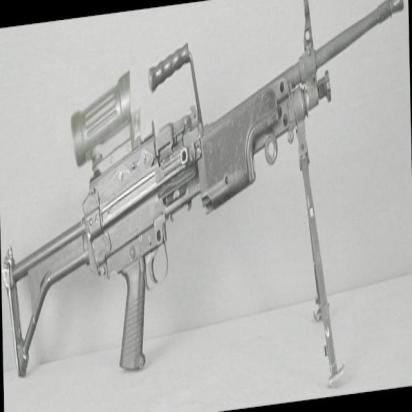Gun: (6, 0, 412, 370)
